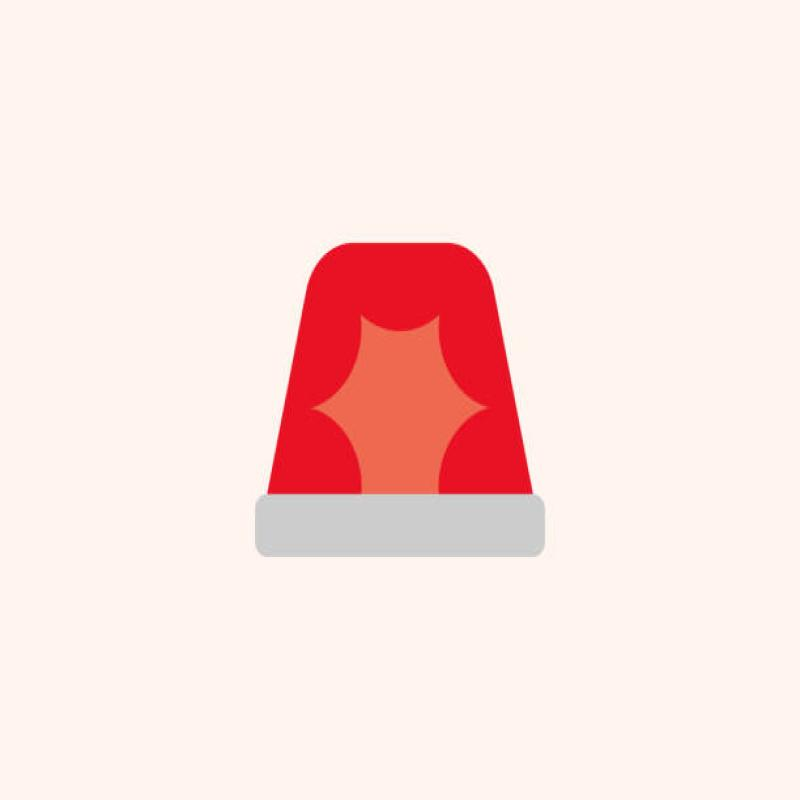AmbulanceSiren: (230, 216, 574, 595)
